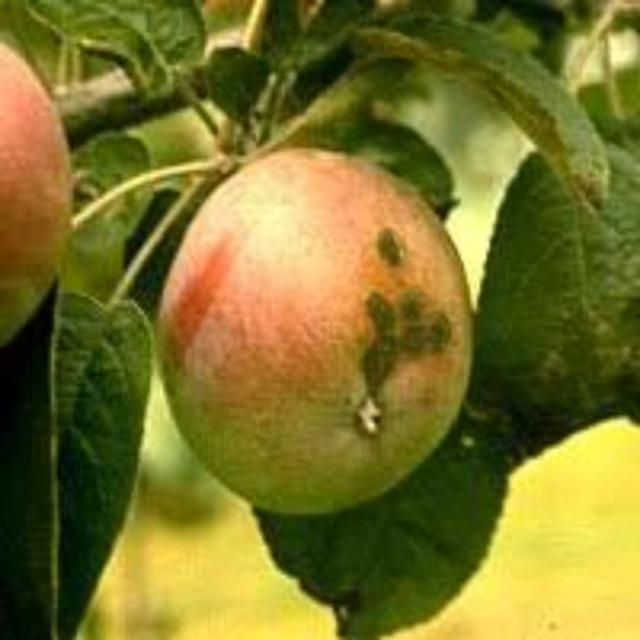Rotten Apple: (167, 113, 509, 514)
